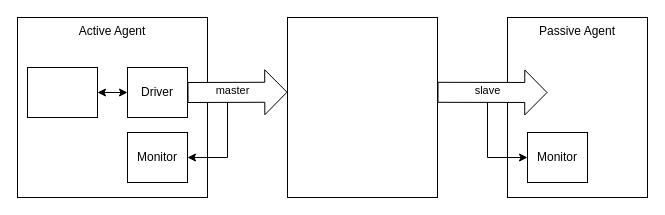
Image size: 665x215. Some labels were removed from this diagram. The centre of each missing label's shape, as x and y in pixels:
"DUT" goes at point (362, 107).
"Sequencer" goes at point (62, 92).
